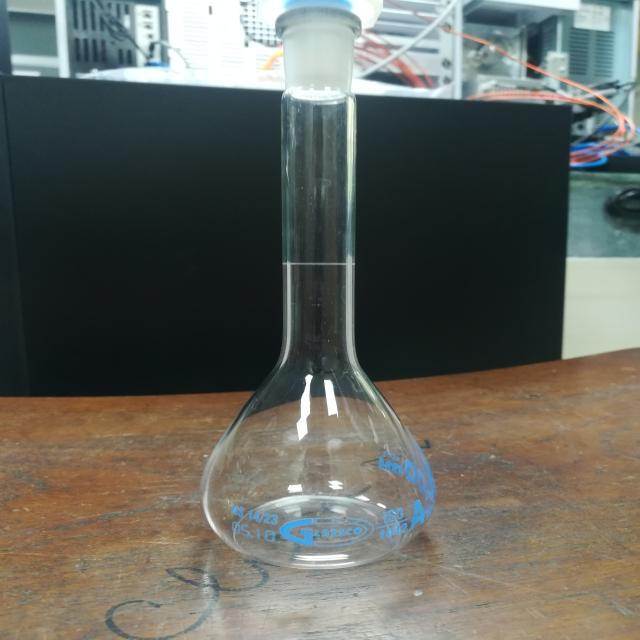Volumetric_Flask: (170, 0, 470, 582)
